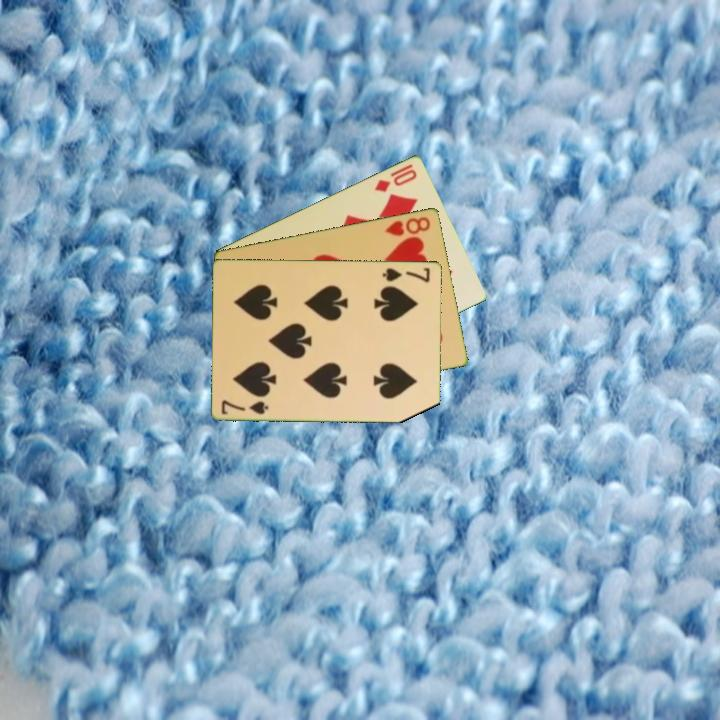10d: (371, 160, 420, 195)
7s: (380, 264, 433, 285), (218, 396, 271, 417)
8h: (381, 213, 433, 239)
